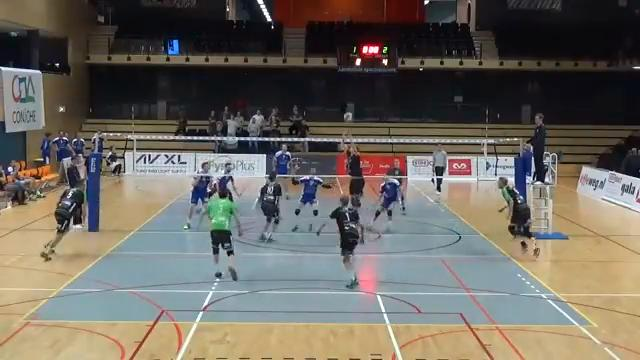alzata: (339, 129, 368, 224)
